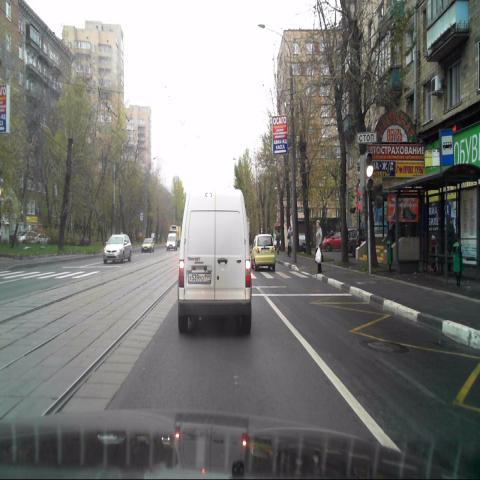5_16: (440, 129, 454, 164)
